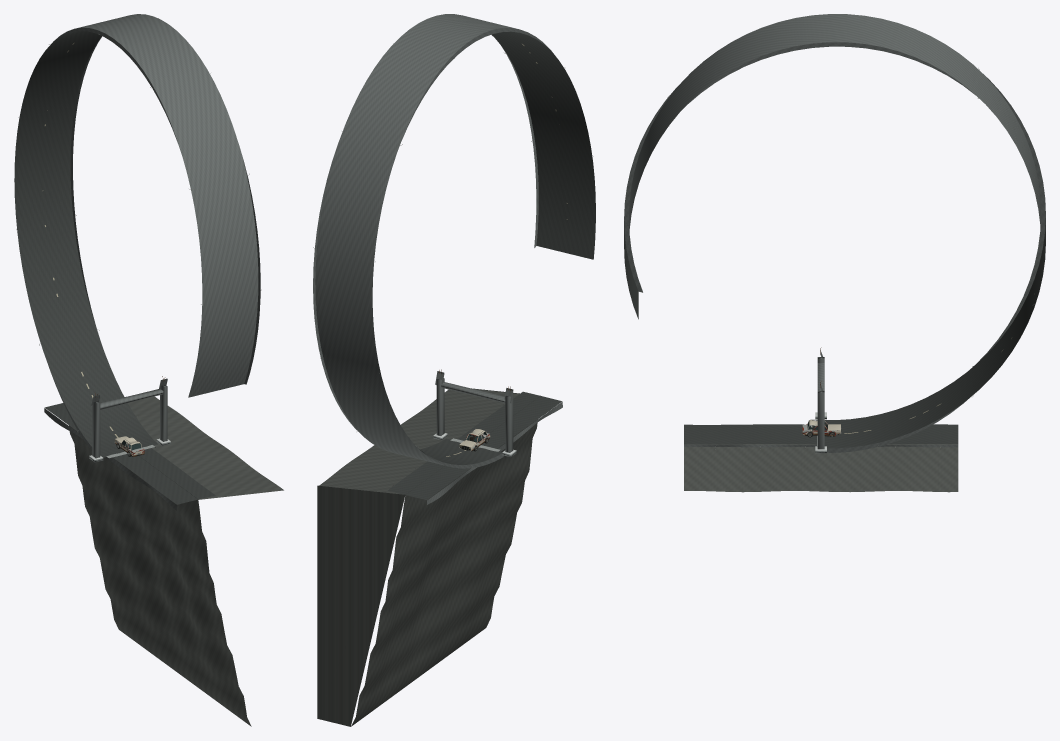
The model's file is drive-predicaments.glb.
3 views of the same model, side by side, from view 1: azimuth 30°, elevation 25°; view 2: azimuth 150°, elevation 25°; view 3: azimuth 270°, elevation 25° (orthographic). The views are drawn at different scales.
Visible parts, largest first — view 1: dp_road_fold, dp_cliff_mass, dp_cliff_shelf, dp_whiteout_pylon; view 2: dp_cliff_mass, dp_road_fold, dp_cliff_shelf, dp_whiteout_pylon; view 3: dp_road_fold, dp_cliff_mass, dp_cliff_shelf, dp_whiteout_pylon.
Boxes of the visible parts, box(x1,y1,x2,y2) form: dp_road_fold: box(14, 14, 261, 461); dp_cliff_mass: box(69, 396, 283, 726); dp_cliff_shelf: box(44, 403, 215, 510); dp_whiteout_pylon: box(89, 376, 170, 462); dp_cliff_mass: box(317, 388, 539, 726); dp_road_fold: box(313, 14, 595, 468); dp_cliff_shelf: box(388, 391, 562, 504); dp_whiteout_pylon: box(433, 369, 516, 456); dp_road_fold: box(624, 14, 1045, 452); dp_cliff_mass: box(684, 444, 958, 492); dp_cliff_shelf: box(684, 424, 958, 449); dp_whiteout_pylon: box(815, 347, 826, 453).
Size of the model in its own units: 17.56 by 85.81 by 49.25.
Materials: 17 (17 with a texture image).
